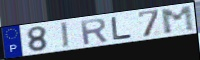7: (138, 8, 161, 39)
8: (25, 25, 49, 52)
I: (59, 20, 71, 50)
L: (110, 16, 134, 41)
M: (159, 5, 198, 36)
R: (78, 17, 109, 47)
